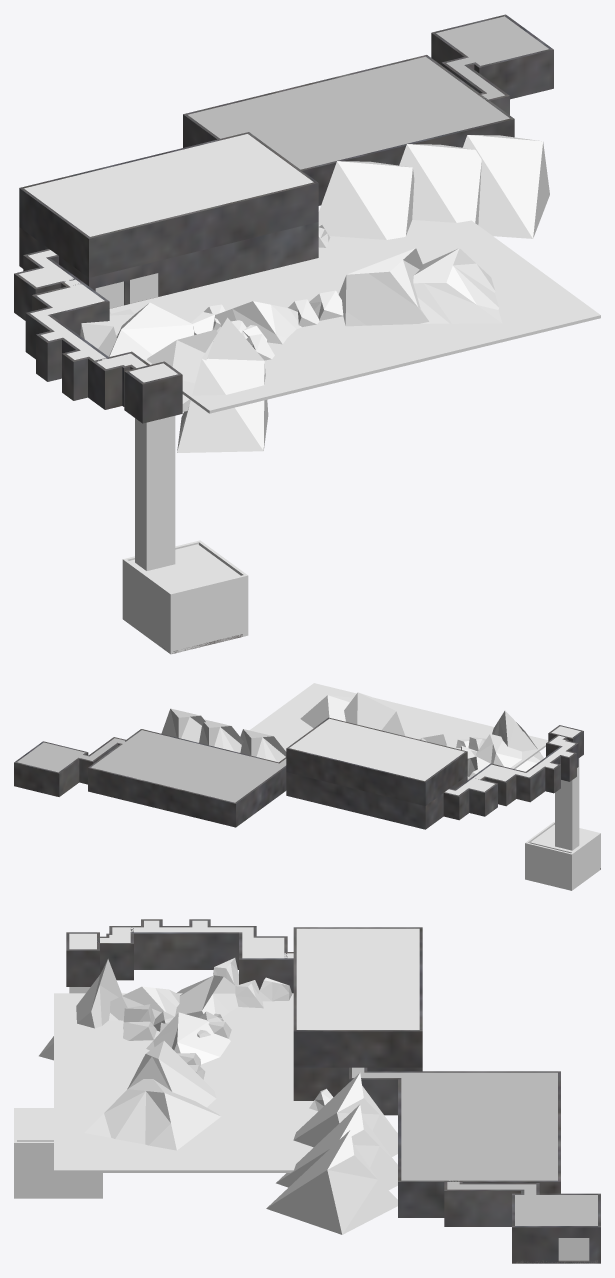
The model's file is Tutorial Mapexample.fbx.
The picture shows the model from 3 angles, top to bottom: view 1: azimuth 30°, elevation 25°; view 2: azimuth 150°, elevation 25°; view 3: azimuth 270°, elevation 25°; orthographic projection. The views are drawn at different scales.
Parts seen in each view (by area): view 1: Object_4_2, Object_18, Object_1_2, Object_6, Object_60, Object_26, Object_5, Object_43_2, Object_8, Object_19, Object_20, Object_42 (+7 smaller); view 2: Object_4_2, Object_1_2, Object_6, Object_18, Object_60, Object_8, Object_7, Object_42, Object_30, Object_43_2, Object_5, Object_26 (+3 smaller); view 3: Object_18, Object_4_2, Object_1_2, Object_6, Object_5, Object_20, Object_60, Object_43_2, Object_19, Object_7, Object_42, Object_48 (+10 smaller).
Part boxes in pixels (x1=…): Object_4_2: x1=14, y1=14, x2=553, y2=423; Object_18: x1=109, y1=220, x2=600, y2=413; Object_1_2: x1=188, y1=16, x2=548, y2=169; Object_6: x1=24, y1=134, x2=313, y2=236; Object_60: x1=122, y1=540, x2=248, y2=654; Object_26: x1=177, y1=317, x2=268, y2=452; Object_5: x1=462, y1=135, x2=549, y2=238; Object_43_2: x1=318, y1=161, x2=414, y2=239; Object_8: x1=135, y1=416, x2=175, y2=570; Object_19: x1=399, y1=144, x2=481, y2=224; Object_20: x1=413, y1=248, x2=501, y2=323; Object_42: x1=338, y1=248, x2=428, y2=326; Object_4_2: x1=14, y1=717, x2=583, y2=829; Object_1_2: x1=17, y1=730, x2=286, y2=802; Object_6: x1=289, y1=718, x2=464, y2=780; Object_18: x1=249, y1=683, x2=548, y2=778; Object_60: x1=525, y1=822, x2=600, y2=890; Object_8: x1=555, y1=758, x2=579, y2=850; Object_7: x1=445, y1=726, x2=580, y2=795; Object_42: x1=344, y1=692, x2=404, y2=735; Object_30: x1=474, y1=734, x2=540, y2=771; Object_43_2: x1=240, y1=729, x2=286, y2=762; Object_5: x1=161, y1=708, x2=205, y2=742; Object_26: x1=492, y1=710, x2=543, y2=760; Object_18: x1=54, y1=993, x2=293, y2=1172; Object_4_2: x1=66, y1=919, x2=600, y2=1263; Object_1_2: x1=352, y1=1067, x2=597, y2=1225; Object_6: x1=296, y1=928, x2=419, y2=1029; Object_5: x1=266, y1=1130, x2=397, y2=1234; Object_20: x1=84, y1=1079, x2=220, y2=1150; Object_60: x1=14, y1=1108, x2=102, y2=1198; Object_43_2: x1=293, y1=1073, x2=397, y2=1156; Object_19: x1=276, y1=1104, x2=397, y2=1190; Object_7: x1=69, y1=920, x2=293, y2=958; Object_42: x1=127, y1=1041, x2=216, y2=1107; Object_48: x1=146, y1=1012, x2=230, y2=1064.
Bounding box in the file's own units: 237 × 191 × 96.
6 materials, 2 textured.
